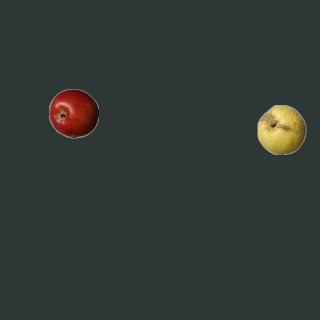Apple Braeburn: (48, 88, 98, 138)
Apple Golden 1: (256, 104, 306, 154)
